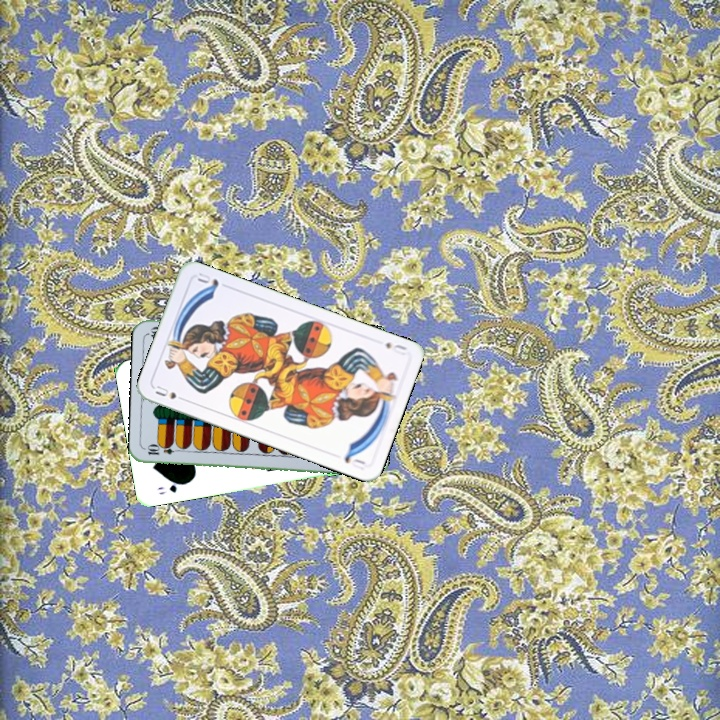E10: (143, 443, 184, 457)
GO: (153, 478, 190, 497)
SU: (151, 381, 190, 404), (381, 338, 409, 358)
